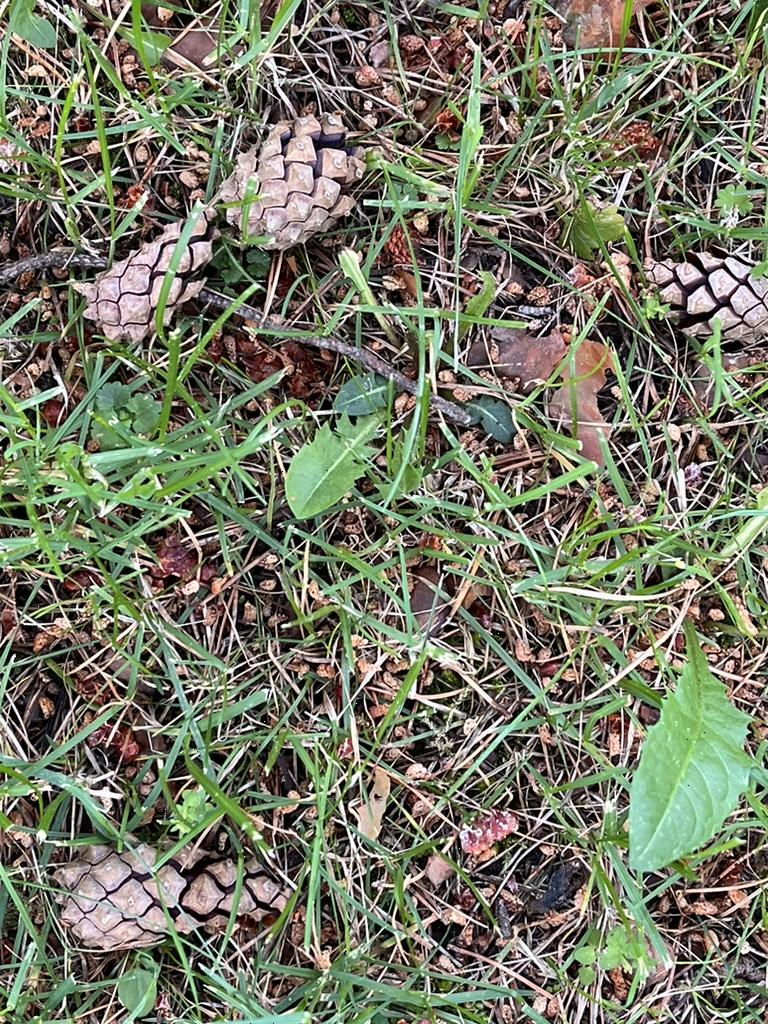pine: (58, 826, 314, 973), (211, 103, 381, 266), (78, 203, 221, 373), (636, 235, 768, 375)
